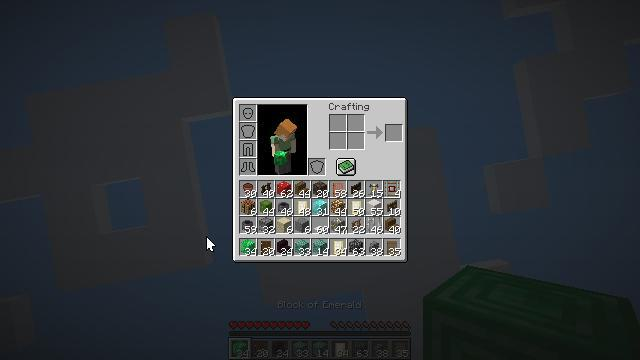cursor: (206, 236, 216, 252)
